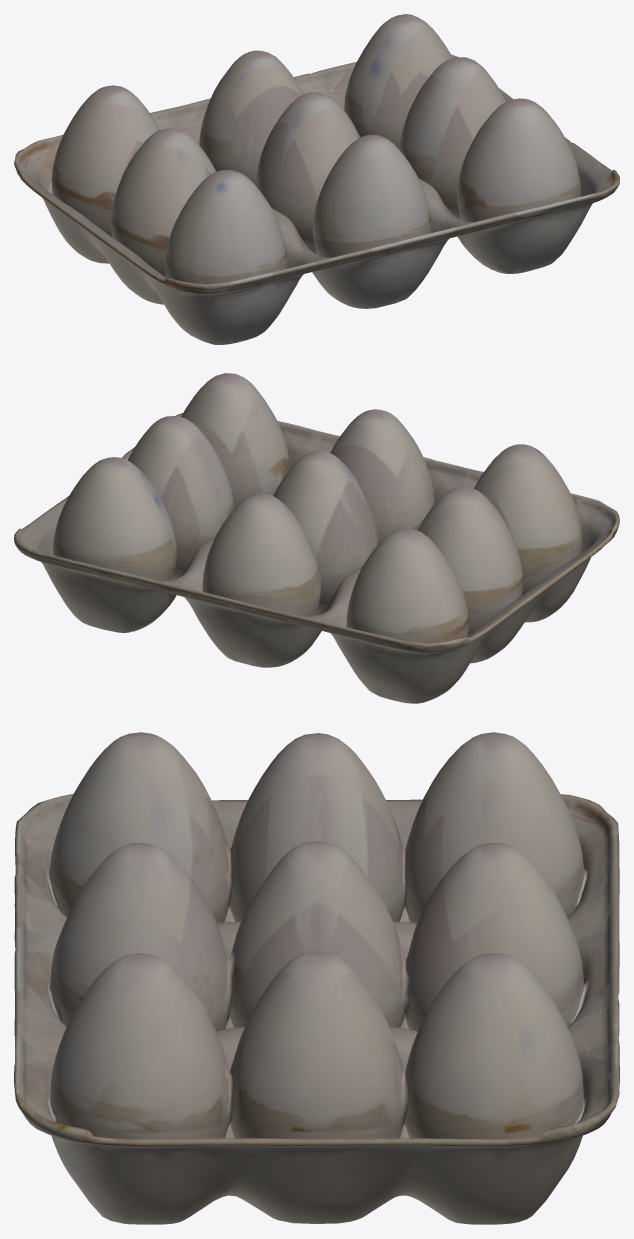
The model's file is tray_with_white_eggs_1104185751_refine.fbx.
3 renders of one model, top to bottom at view 1: azimuth 30°, elevation 25°; view 2: azimuth 150°, elevation 25°; view 3: azimuth 270°, elevation 25°, orthographic. The views are drawn at different scales.
Parts seen in each view (by area): view 1: file1; view 2: file1; view 3: file1.
Part boxes in pixels (x1,y1,x2,y2): file1: (14,14,619,344); file1: (14,373,619,703); file1: (14,732,619,1224).
Size of the model in its own units: 200 by 67.58 by 150.
1 material, 1 textured.
